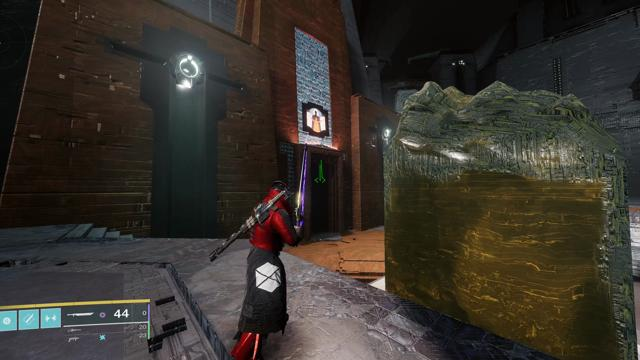worship: (307, 108, 325, 132)
